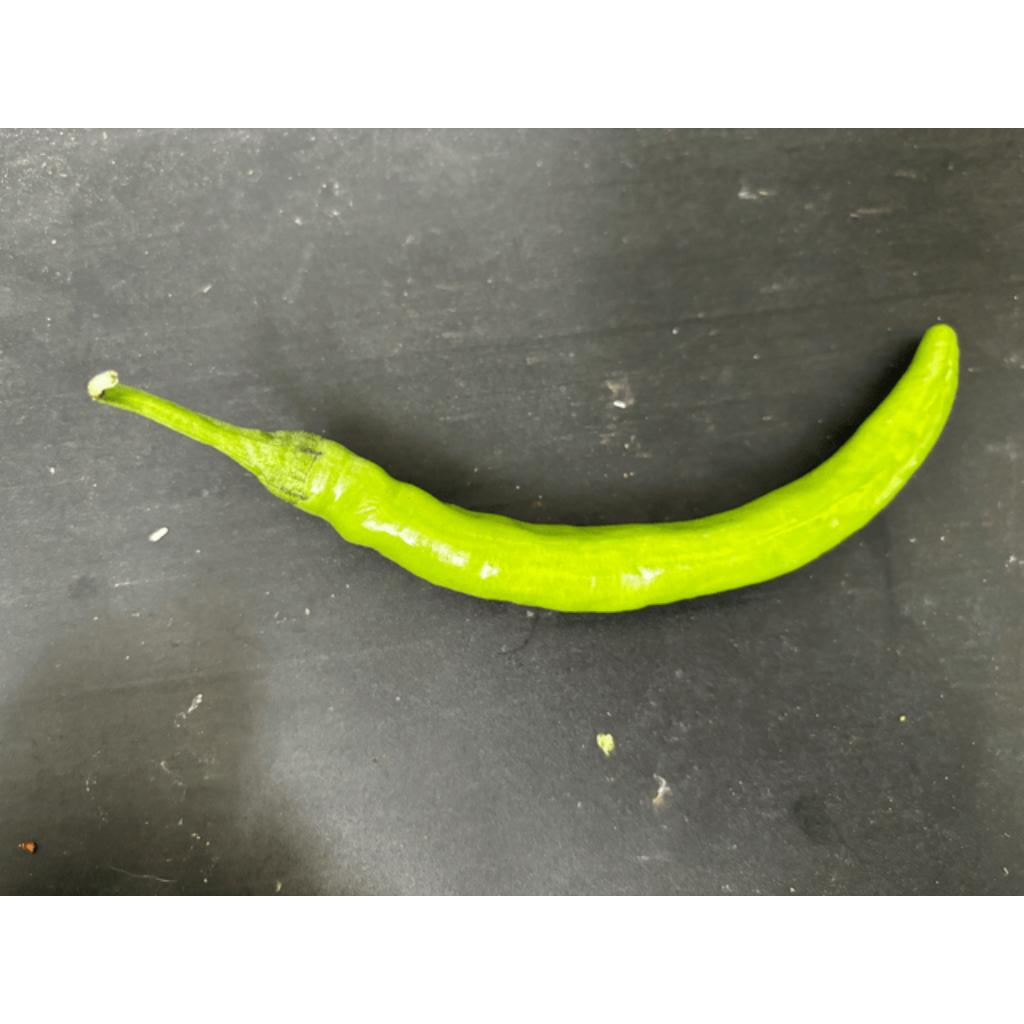chili: (263, 318, 965, 622)
